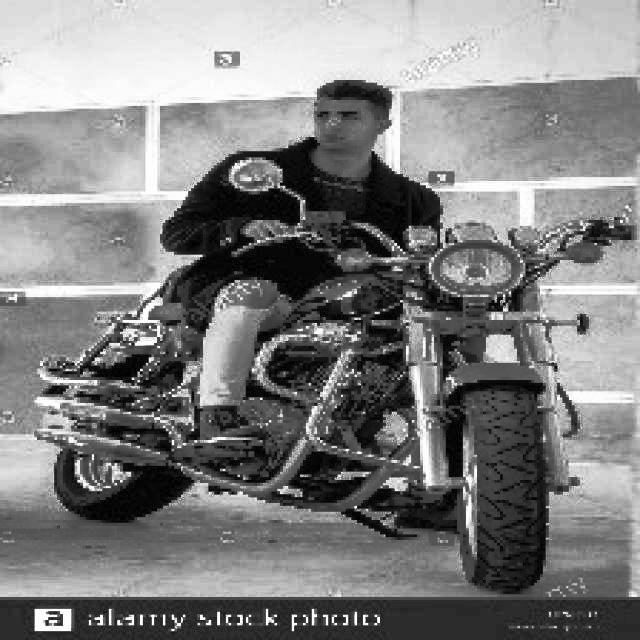Bike: (22, 248, 597, 587)
